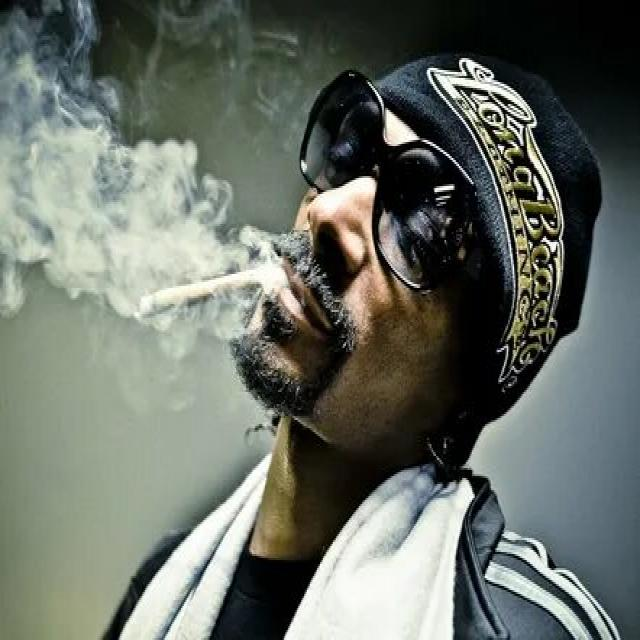smoke: (135, 254, 285, 324)
